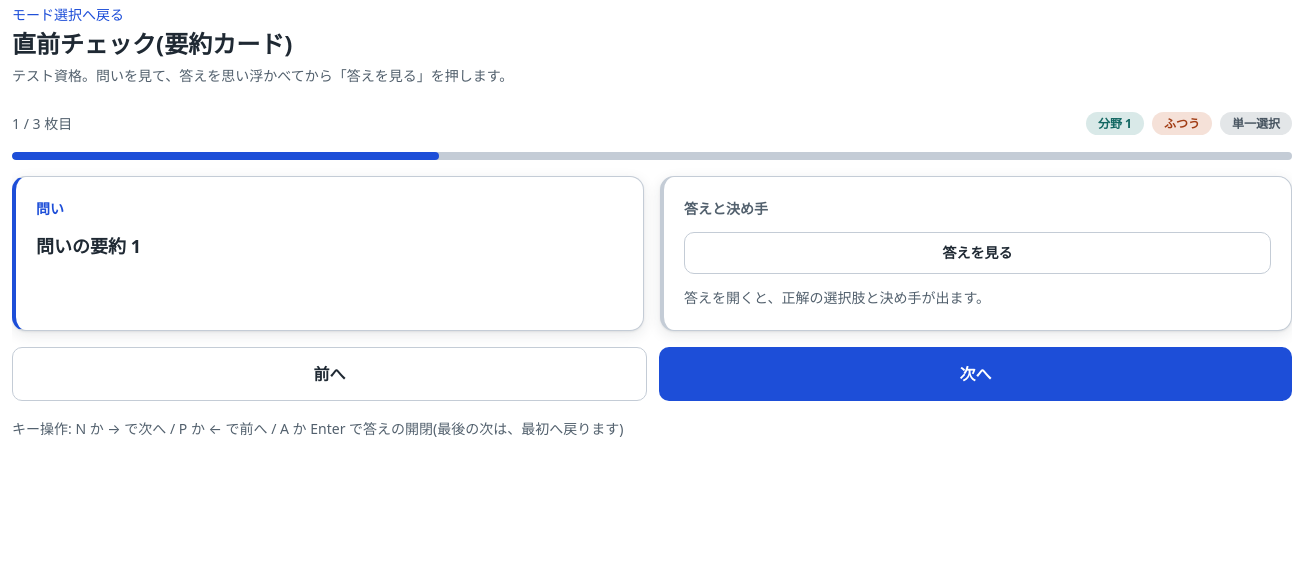
Test: SummaryCards › 答えを見る_正解の選択肢と決め手を開き_もう一度で隠す
Click the button "答えを見る" at point(978, 253), box [684,232,1271,274]
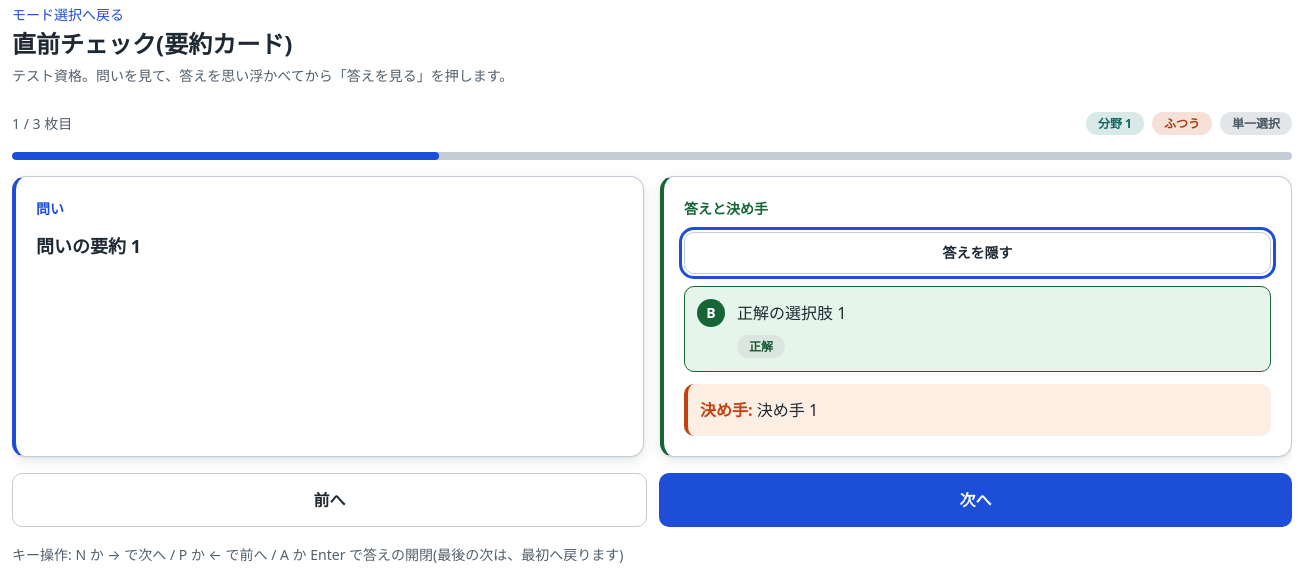
Check: the text "正解の選択肢 1" is shown, box [737,302,846,324]
Check: the text "正解" is shown, box [737,335,785,358]
Check: the text "決め手 1" is shown, box [757,399,818,421]
Click the button "答えを隠す" at point(978, 253), box [684,232,1271,274]
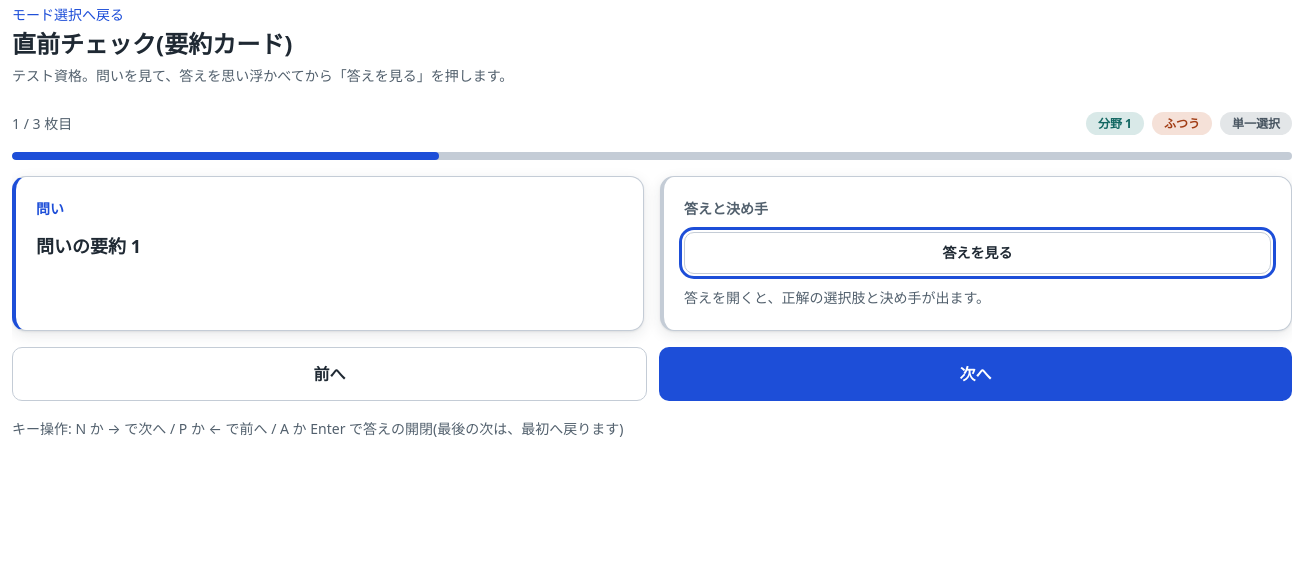
Check: the text "正解の選択肢 1" is gone
